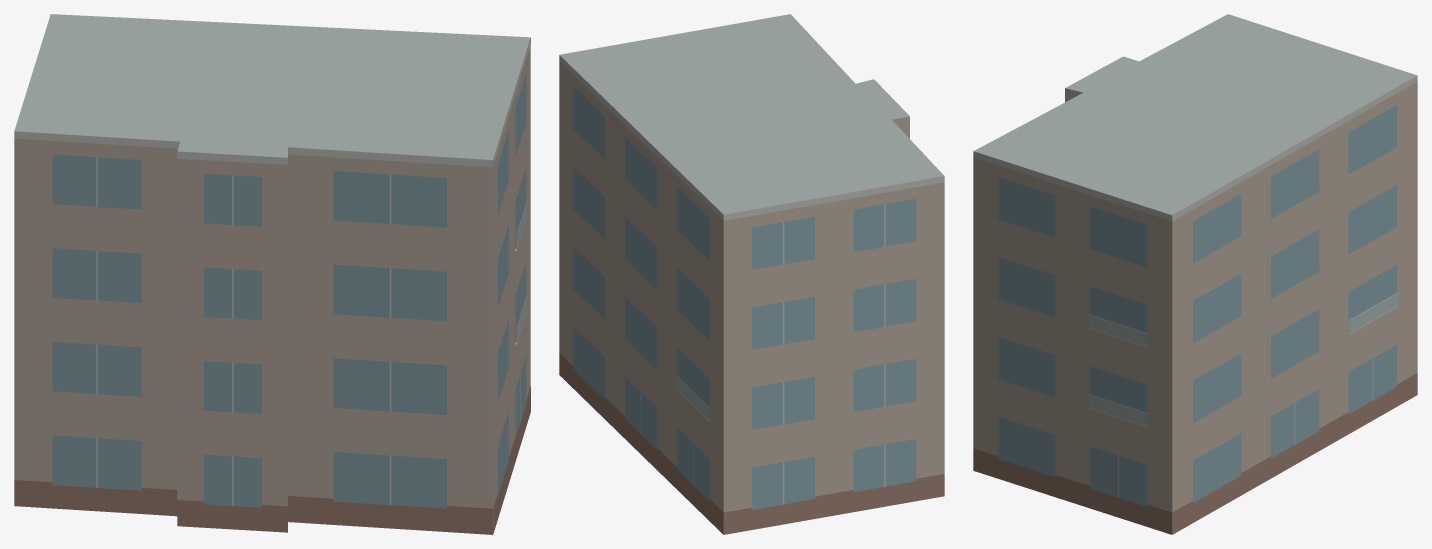
File: survey-upis-32848087.glb
3 renders of one model, left to right at view 1: azimuth 30°, elevation 25°; view 2: azimuth 150°, elevation 25°; view 3: azimuth 270°, elevation 25°, orthographic. The views are drawn at different scales.
Visible parts, largest first — view 1: survey-upis-32848087.tmp; view 2: survey-upis-32848087.tmp; view 3: survey-upis-32848087.tmp.
Part boxes in pixels (box(x1,y1,x2,y2)): survey-upis-32848087.tmp: box(14, 14, 530, 534); survey-upis-32848087.tmp: box(559, 14, 944, 534); survey-upis-32848087.tmp: box(973, 14, 1417, 534).
Size of the model in its own units: 17.18 by 12.71 by 16.01.
